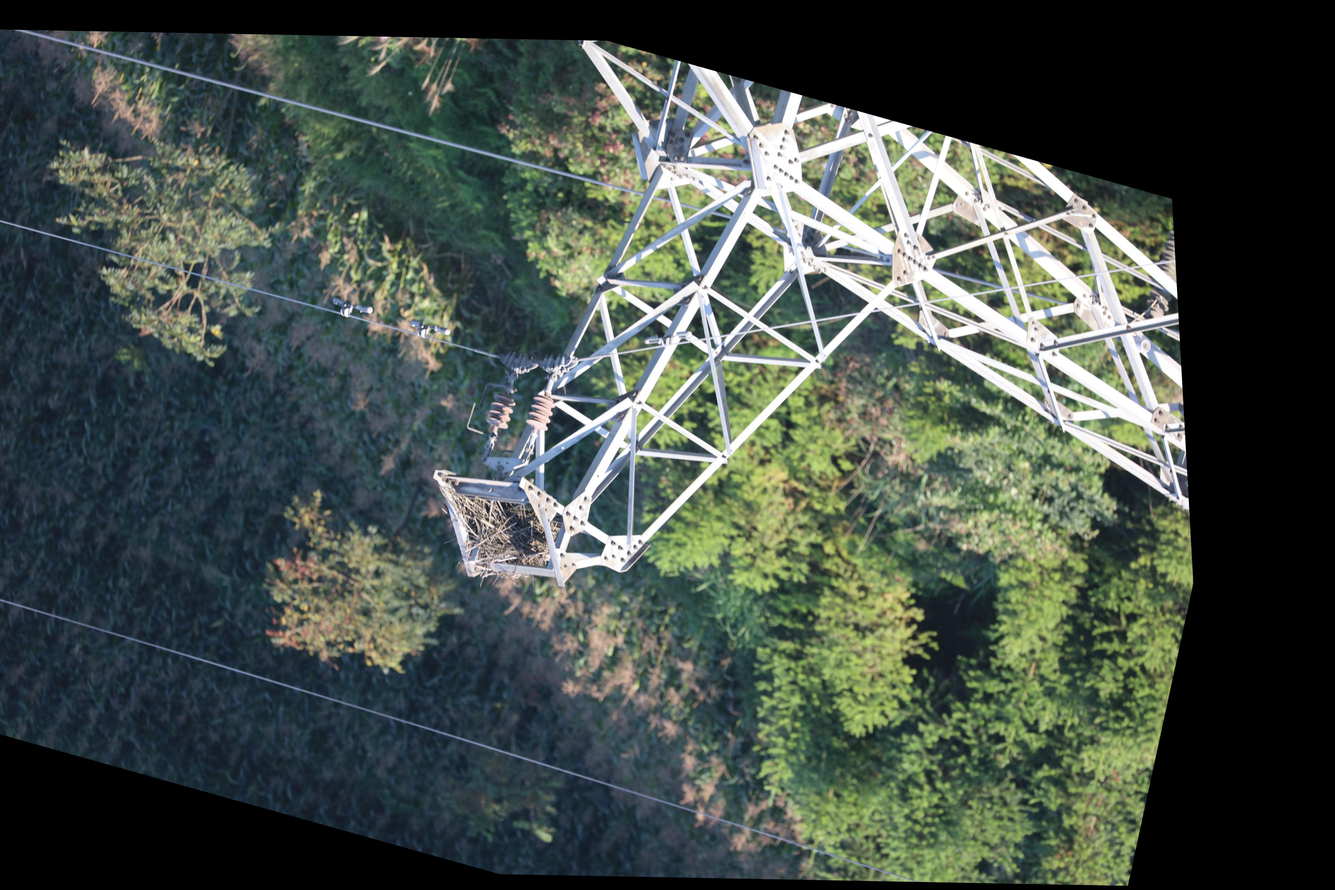damper: (639, 316, 698, 360), (404, 314, 455, 349), (326, 292, 377, 326)
